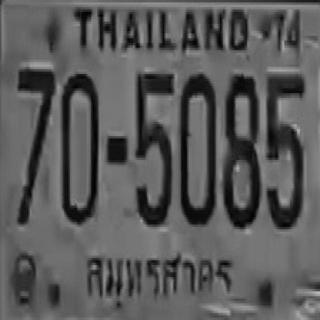N00: (59, 70, 98, 221), (178, 72, 215, 224)
N05: (264, 72, 304, 227), (134, 70, 173, 226)
N07: (15, 67, 54, 222)
N08: (222, 73, 259, 226)
P58: (83, 248, 238, 312)
